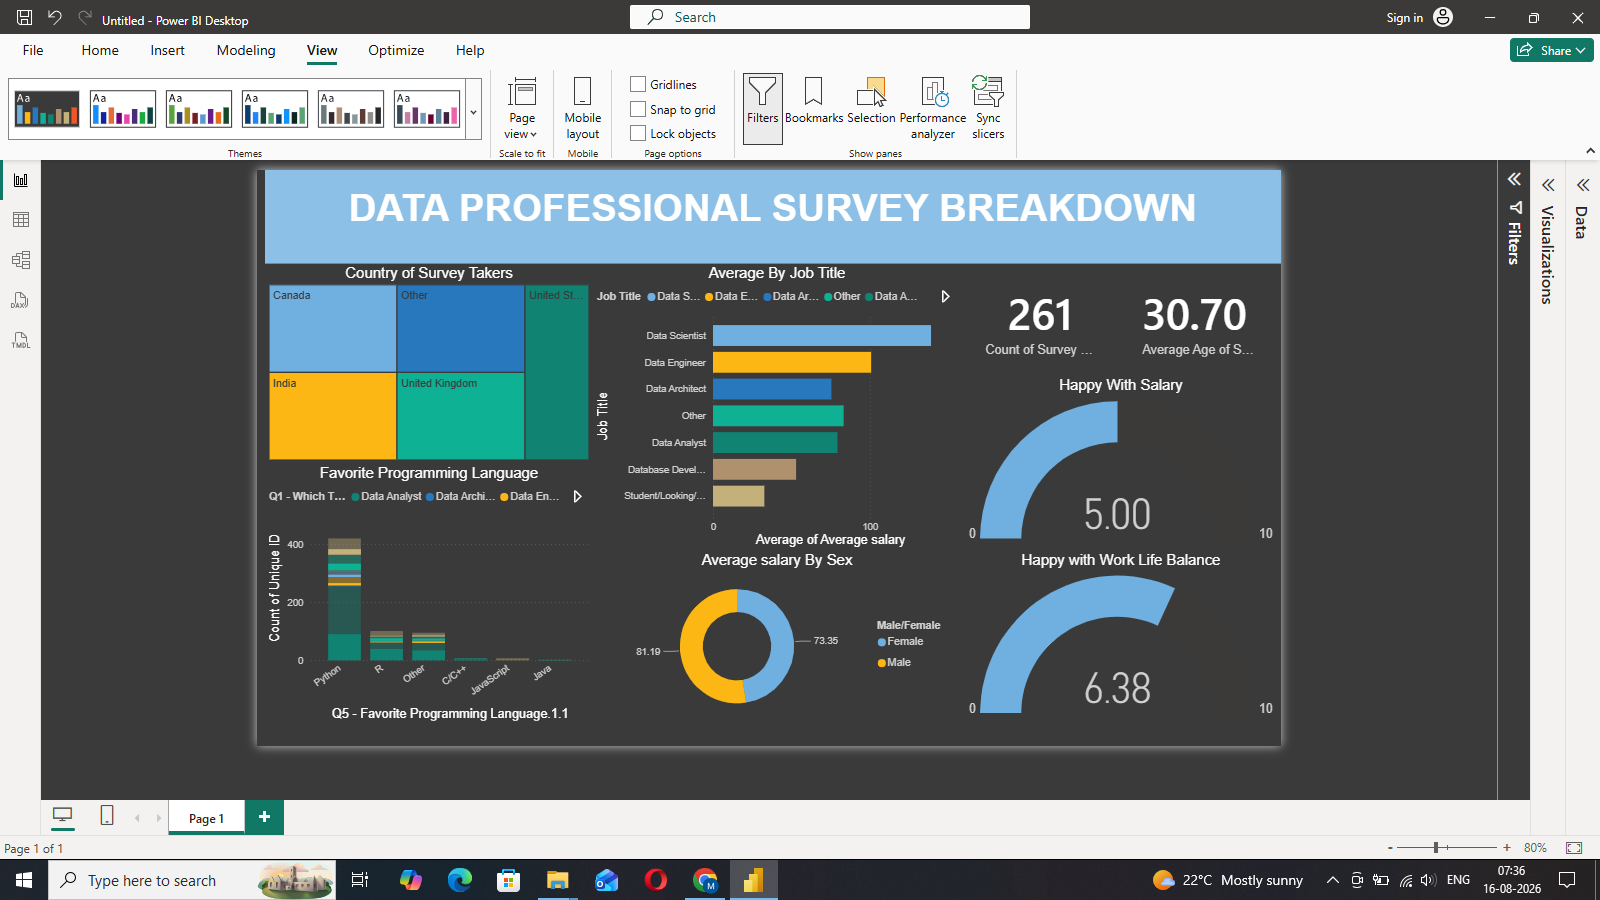

What the dashboard file says about the page in this screenshot:
{"tool":"powerbi","page":{"name":"Page 1","canvas":[1280,720],"ordinal":0},"visuals":[{"type":"textbox","box":[10.3,0,1269.7,116.9],"z":0},{"type":"barChart","title":"Average By Job Title","fields":{"Category":["Data Professional Survey.Q1 - Which Title Best Fits your Current Role?.1"],"Series":["Data Professional Survey.Q1 - Which Title Best Fits your Current Role?.1"],"Y":["Avg(Data Professional Survey.Average salary)"]},"box":[420,117.1,460,358.6],"z":1},{"type":"cardVisual","fields":{"Data":["CountNonNull(Data Professional Survey.Unique ID)"]},"box":[881.4,117.1,195.7,140],"z":2},{"type":"cardVisual","fields":{"Data":["Avg(Data Professional Survey.Q10 - Current Age)"]},"box":[1077.1,117.1,202.9,140],"z":3},{"type":"columnChart","title":"Favorite Programming Language","fields":{"Category":["Data Professional Survey.Q5 - Favorite Programming Language.1.1"],"Y":["CountNonNull(Data Professional Survey.Unique ID)"],"Series":["Data Professional Survey.Q1 - Which Title Best Fits your Current Role?.1"]},"box":[10,367.1,410,325.7],"z":4},{"type":"treemap","title":"Country of Survey Takers","fields":{"Group":["Data Professional Survey.Q11 - Which Country do you live in?.1"],"Values":["Count(Data Professional Survey.Q11 - Which Country do you live in?.1)"]},"box":[10,117.1,410,250],"z":5},{"type":"gauge","title":"Happy With Salary","fields":{"Y":["Avg(Data Professional Survey.Q6 - How Happy are you in your Current Position with the following? (Salary))"],"MinValue":["Min(Data Professional Survey.Q6 - How Happy are you in your Current Position with the following? (Salary))"],"MaxValue":["Max(Data Professional Survey.Q6 - How Happy are you in your Current Position with the following? (Salary))"]},"box":[880,257.1,400,218.6],"z":6},{"type":"gauge","title":"Happy with Work Life Balance","fields":{"Y":["Avg(Data Professional Survey.Q6 - How Happy are you in your Current Position with the following? (Work/Life Balance))"],"MinValue":["Min(Data Professional Survey.Q6 - How Happy are you in your Current Position with the following? (Work/Life Balance))"],"MaxValue":["Max(Data Professional Survey.Q6 - How Happy are you in your Current Position with the following? (Work/Life Balance))"]},"box":[880,475.7,400,217.1],"z":7},{"type":"donutChart","title":"Average salary By Sex","fields":{"Category":["Data Professional Survey.Q9 - Male/Female?"],"Y":["Avg(Data Professional Survey.Average salary)"]},"box":[420,475.7,460,217.1],"z":8}]}

Visuals, with their boxes on the page's 1280x720 design canvas (x1, y1, x2, y2). These are canvas units, not pixel positions in the 1600x900 screenshot, which may show the page scaled, cropped or inside an application window:
textbox: locate(10, 0, 1280, 117)
"Average By Job Title" barChart: locate(420, 117, 880, 476)
cardVisual - CountNonNull(Data Professional Survey.Unique ID): locate(881, 117, 1077, 257)
cardVisual - Avg(Data Professional Survey.Q10 - Current Age): locate(1077, 117, 1280, 257)
"Favorite Programming Language" columnChart: locate(10, 367, 420, 693)
"Country of Survey Takers" treemap: locate(10, 117, 420, 367)
"Happy With Salary" gauge: locate(880, 257, 1280, 476)
"Happy with Work Life Balance" gauge: locate(880, 476, 1280, 693)
"Average salary By Sex" donutChart: locate(420, 476, 880, 693)
